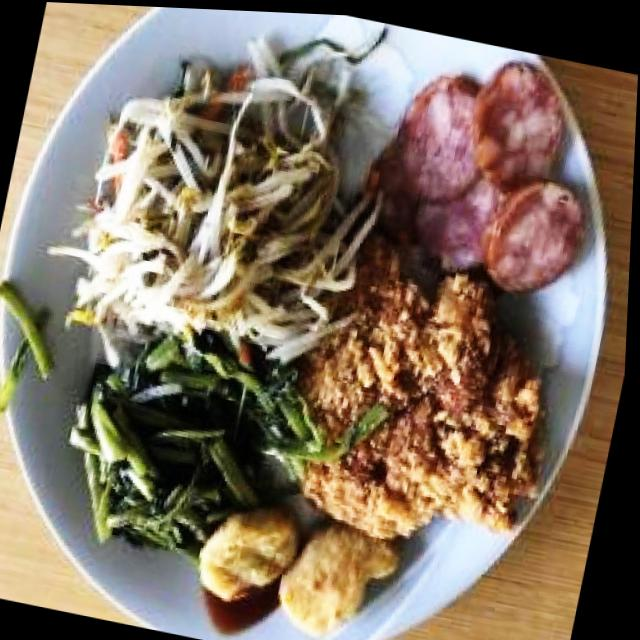chicken_nuggets: (272, 516, 400, 640), (190, 501, 299, 611)
chinese_sausage: (377, 42, 619, 303)
fried_chicken: (254, 225, 580, 559)
mung_bean_sprouts: (36, 2, 399, 375)
water_spinach: (58, 327, 319, 577)
